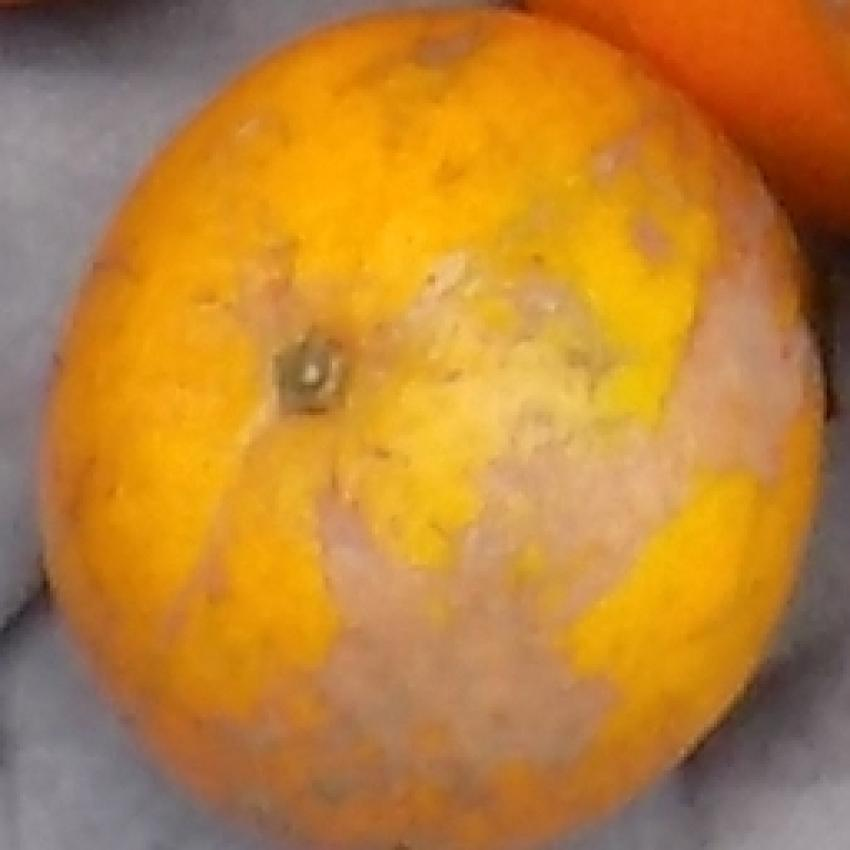Mal estado: (10, 2, 833, 847)
